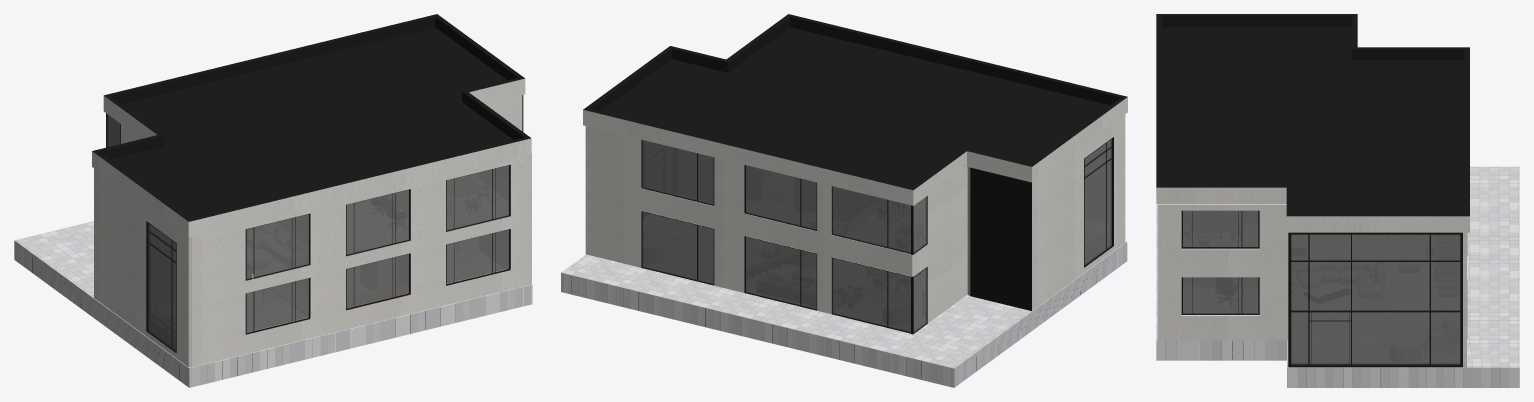
Rendered from int_loft.glb.
3 renders of one model, left to right at view 1: azimuth 30°, elevation 25°; view 2: azimuth 150°, elevation 25°; view 3: azimuth 270°, elevation 25°, orthographic. The views are drawn at different scales.
Visible parts, largest first — view 1: Cube.002_Material.002_0, Cube.004_Material.001_0, Plane.020_Material.004_0, object 1; view 2: Cube.002_Material.002_0, Cube.004_Material.001_0, Plane.020_Material.004_0, object 1; view 3: Cube.002_Material.002_0, Plane.020_Material.004_0, object 1, Cube.004_Material.001_0.
Boxes of the visible parts, x1,y1,x2,y2 form: Cube.002_Material.002_0: (92, 14, 530, 352); Cube.004_Material.001_0: (92, 78, 531, 367); Plane.020_Material.004_0: (107, 114, 510, 350); object 1: (14, 221, 532, 387); Cube.002_Material.002_0: (583, 14, 1127, 334); Cube.004_Material.001_0: (583, 97, 1127, 323); Plane.020_Material.004_0: (642, 139, 1111, 332); object 1: (561, 241, 1127, 387); Cube.002_Material.002_0: (1156, 14, 1469, 367); Plane.020_Material.004_0: (1183, 210, 1460, 364); object 1: (1156, 166, 1519, 387); Cube.004_Material.001_0: (1156, 187, 1469, 367).
Bounding box in the file's own units: 15.43 × 6.13 × 11.7.
Materials: 18 (15 with a texture image).
